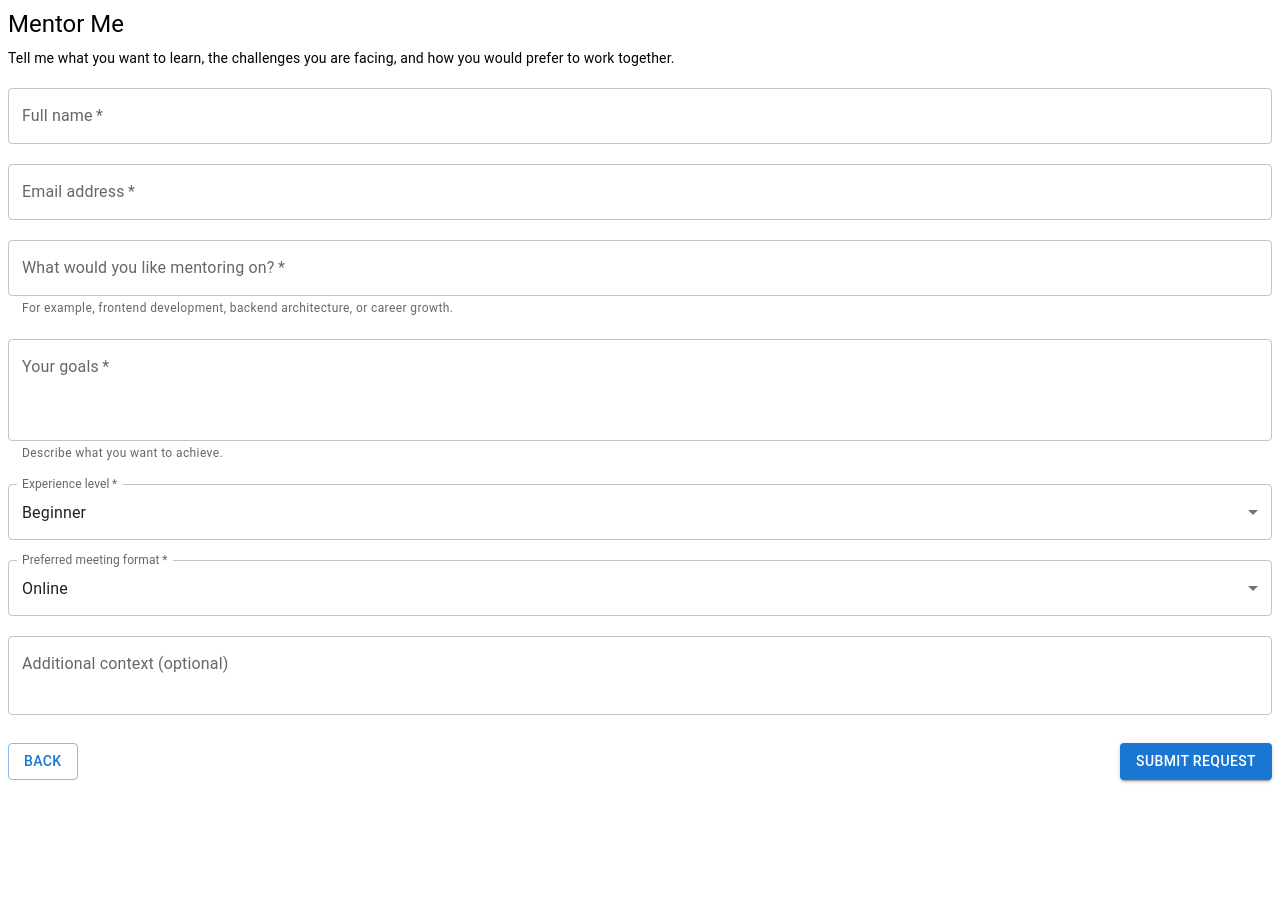
Test case: MentorMeForm › shows a validation error for an invalid email
Type "Test User" into the field labelled "Full name *".
click(640, 116); type("Test User")  # box [8,88,1272,144]
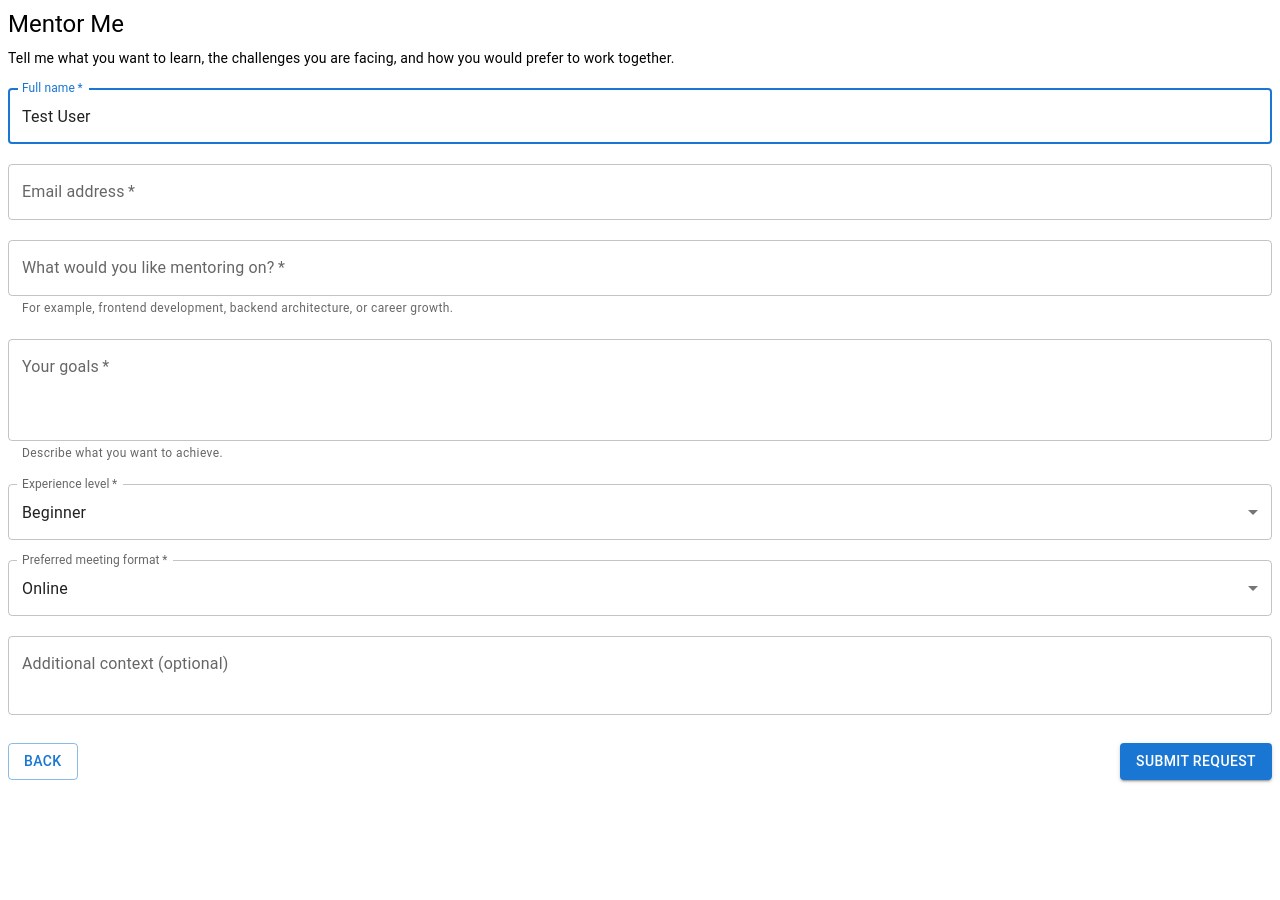
Type "invalid-email" into the field labelled "Email address *".
click(640, 192); type("invalid-email")  # box [8,164,1272,220]
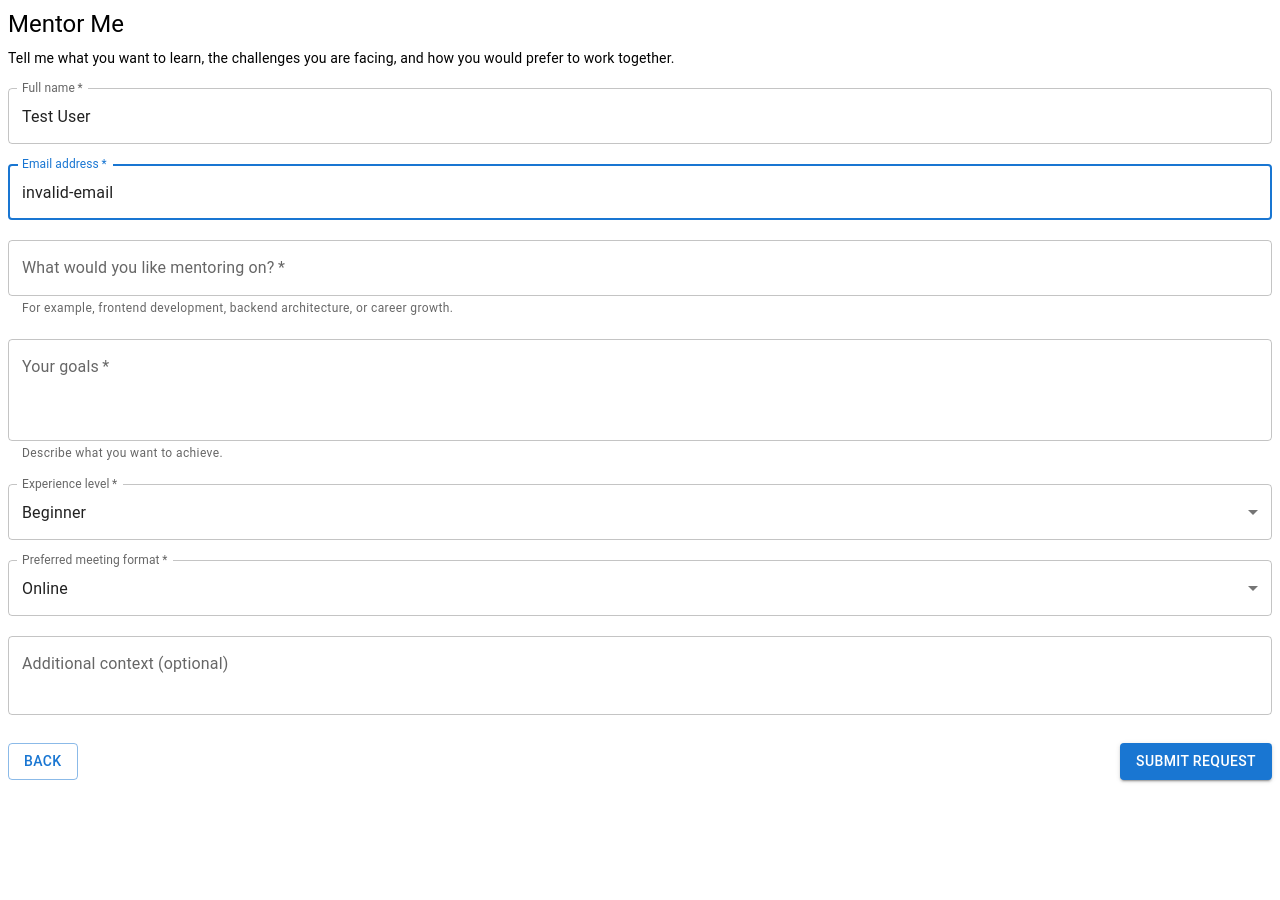
Submit the form "Mentor Me"
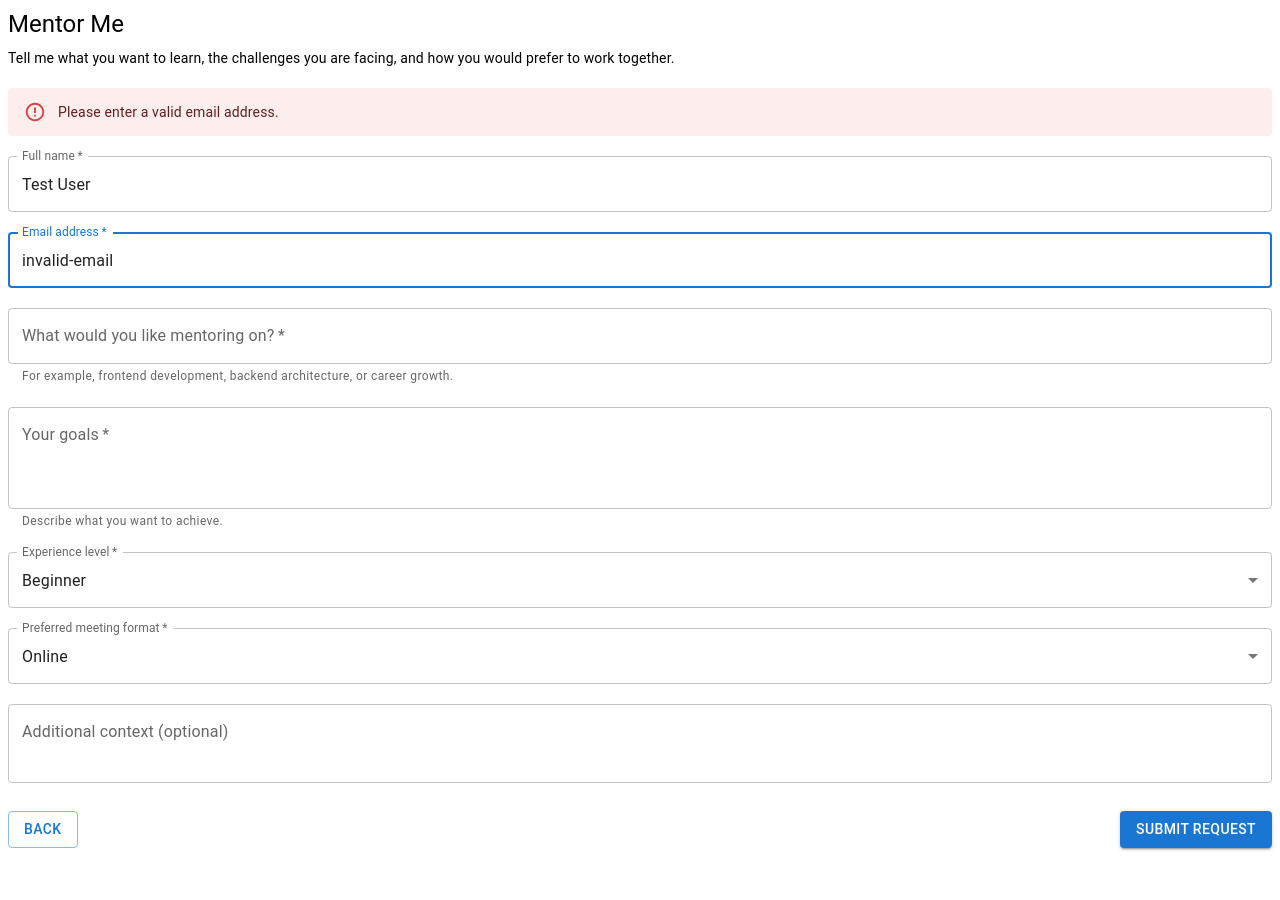
Result: the text "Please enter a valid email address." is shown at [58,104,279,120]
